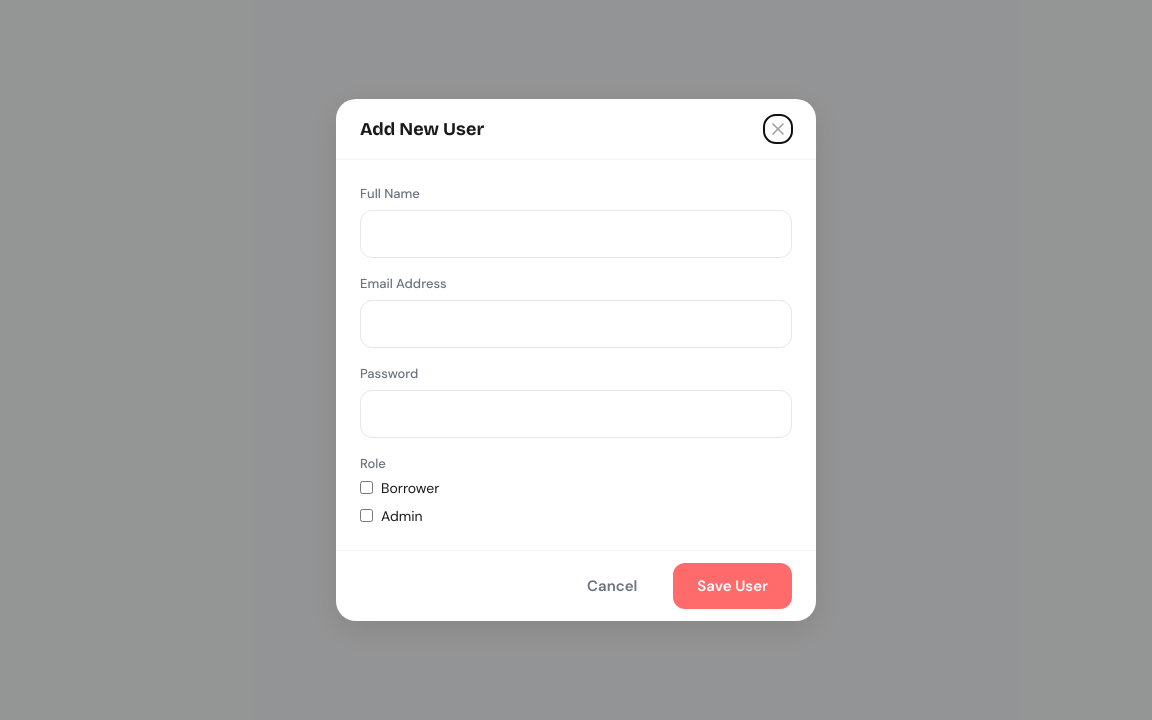
Scenario: AddEditUserDialog › keeps create-user password validation out of E2E
This screenshot has width=1152, height=720.
Type "Test User" into the field labelled "Full Name" at (576, 234), box left=360, top=210, right=792, bottom=258
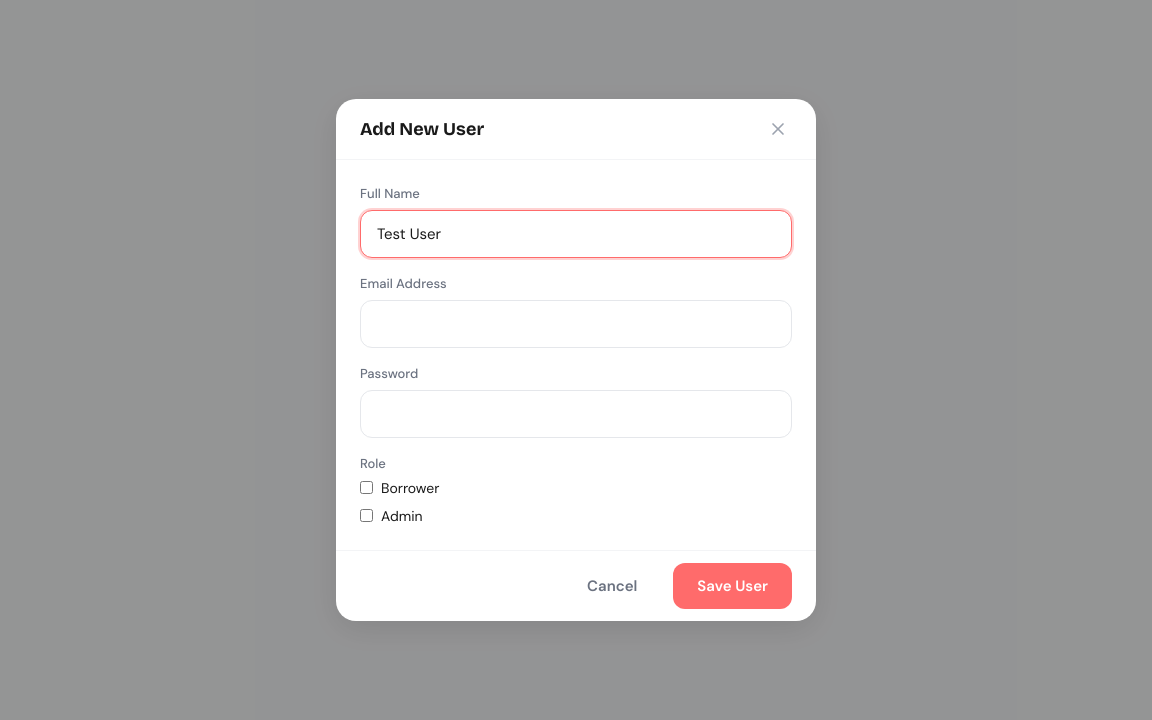
Type "test.user@example.com" into the field labelled "Email Address" at (576, 324), box left=360, top=300, right=792, bottom=348
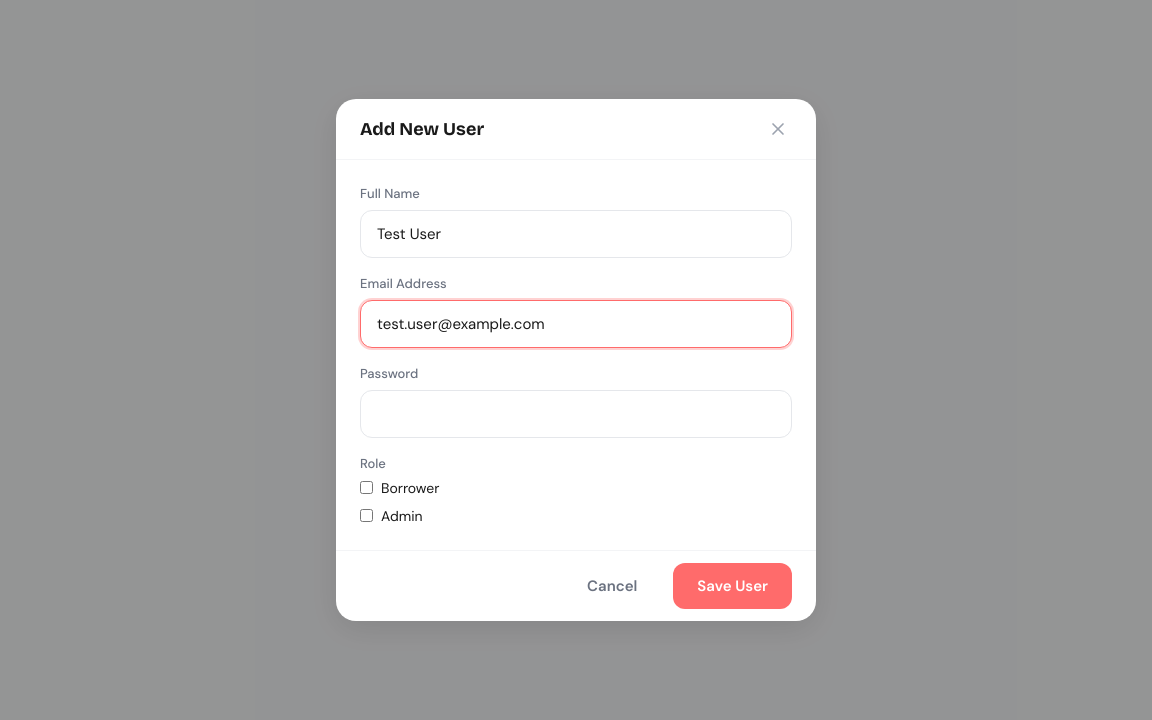
Click the checkbox labelled "Borrower" at (366, 488), box left=360, top=481, right=373, bottom=494
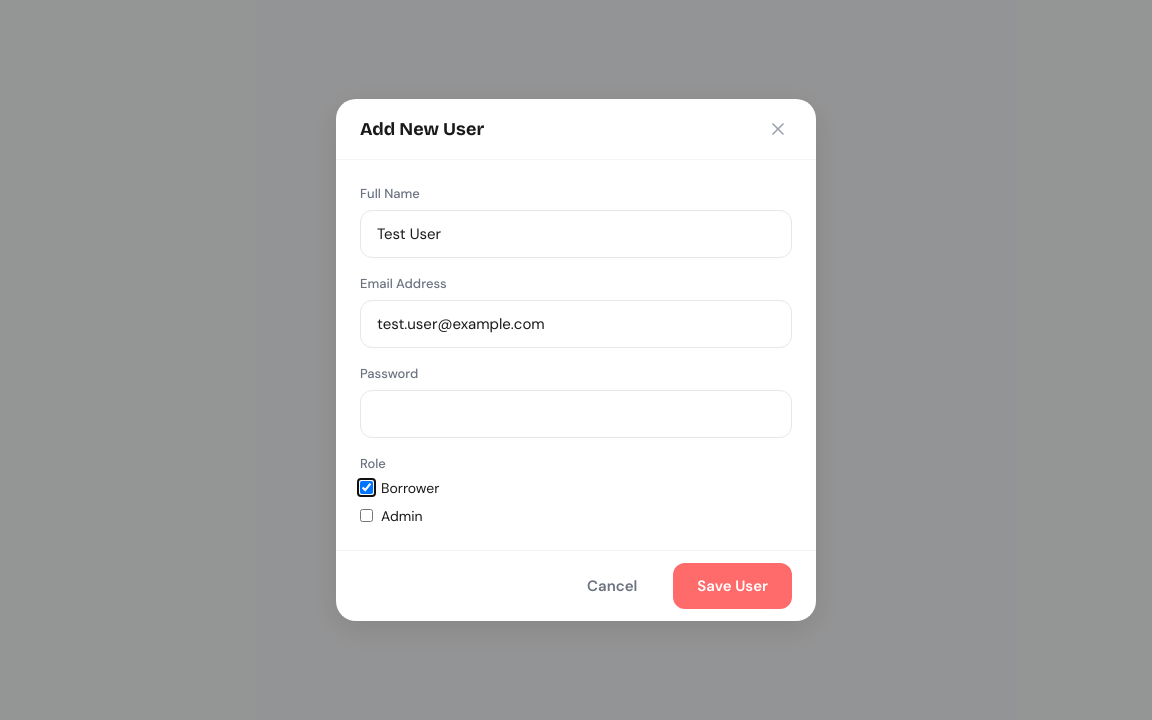
Click the button "Save User" at (733, 586), box left=673, top=562, right=792, bottom=609
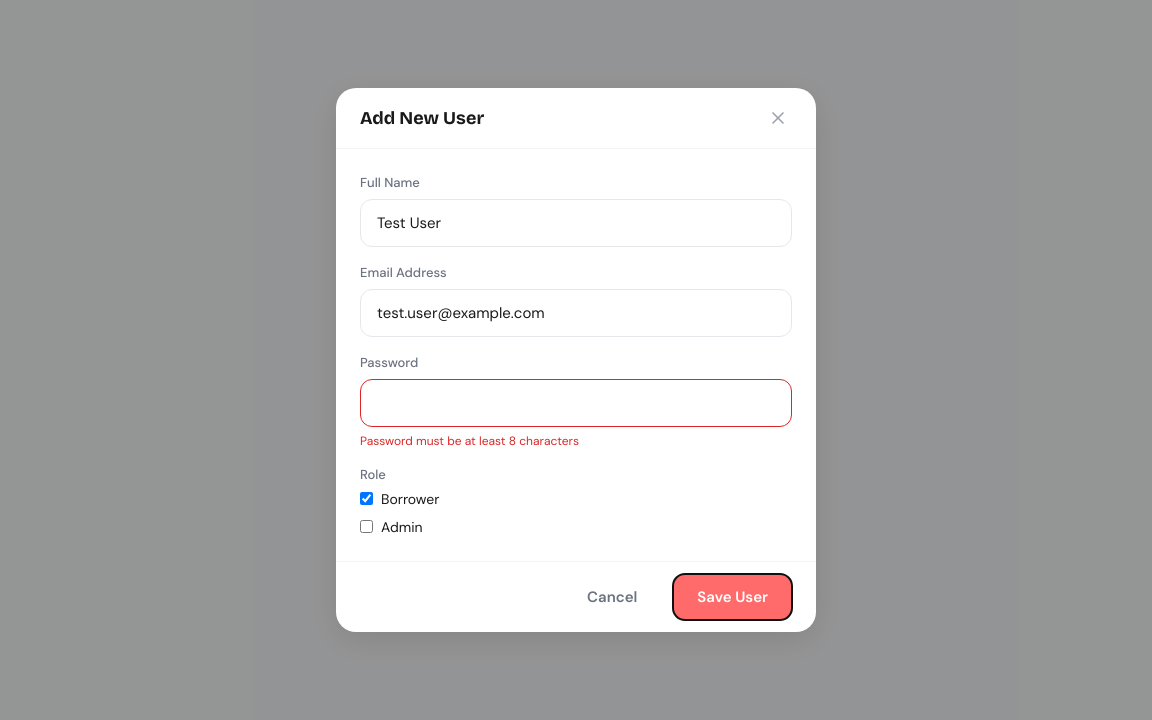
Now the text with test id "error-password" reads "Password must be at least 8 characters", box left=360, top=433, right=579, bottom=449
